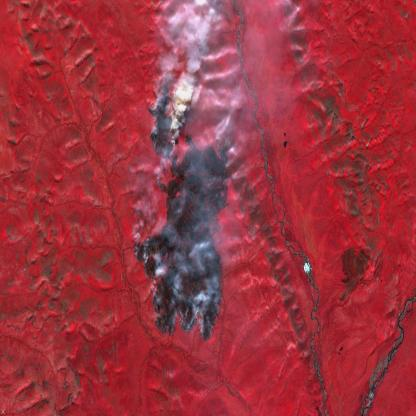fire: (133, 85, 235, 349)
